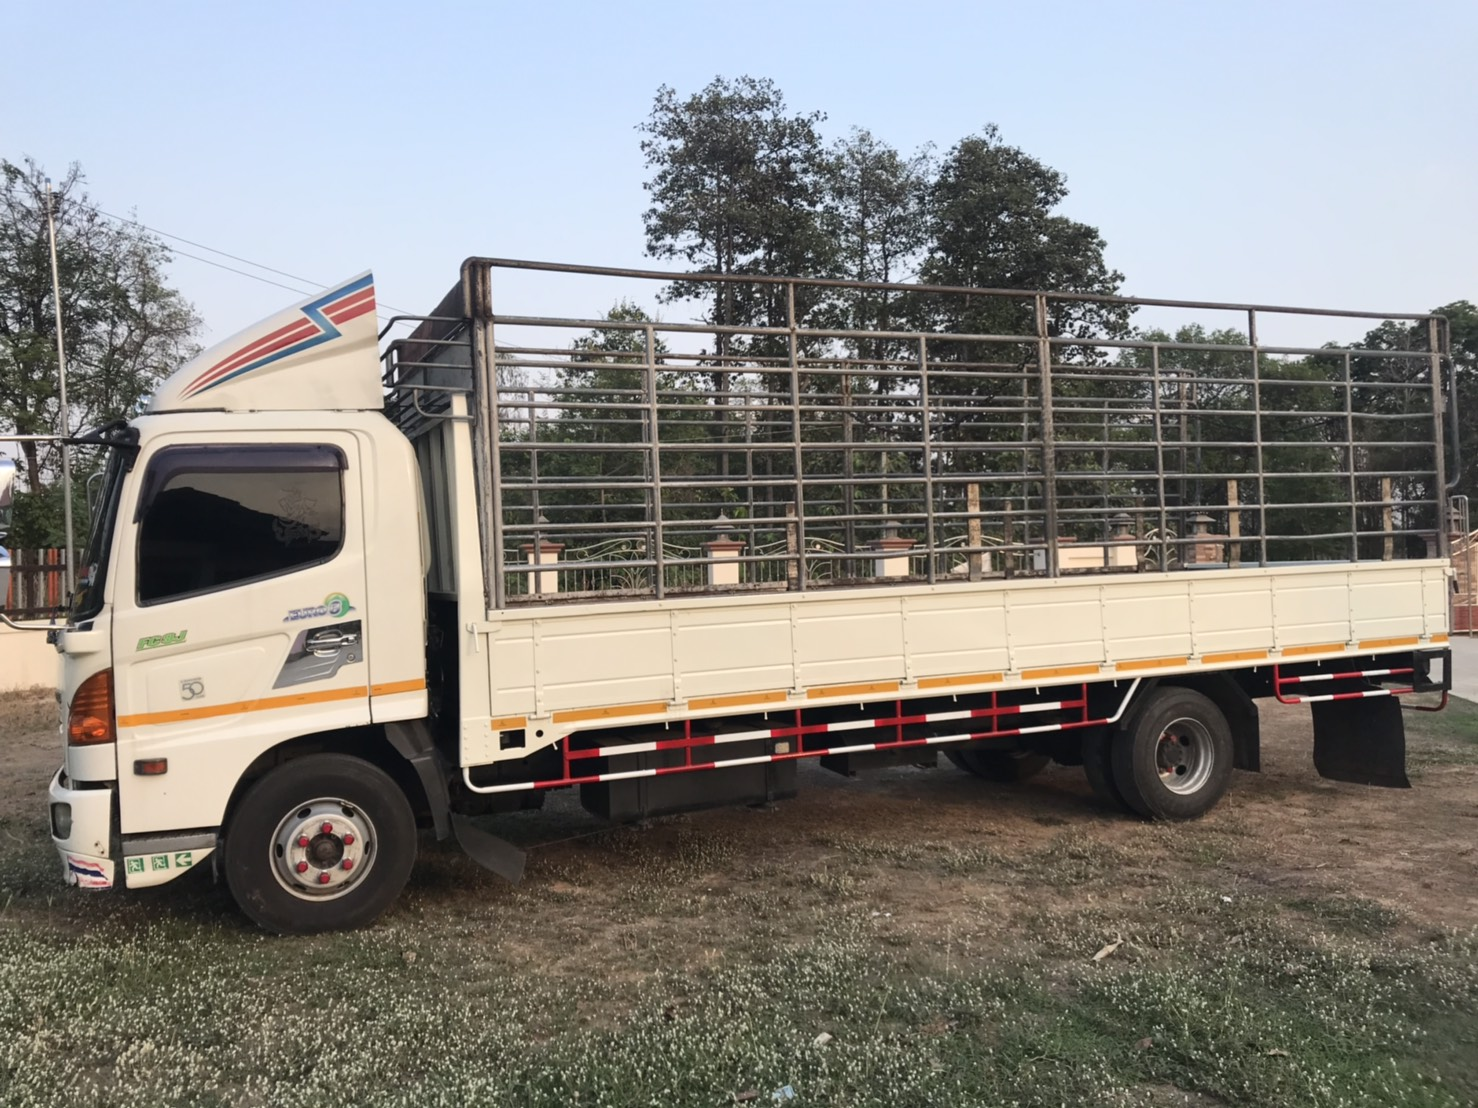truck: (54, 324, 1448, 928)
